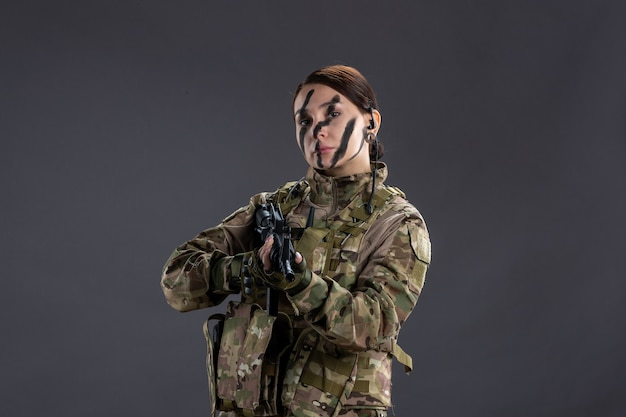gun: (255, 203, 296, 283)
